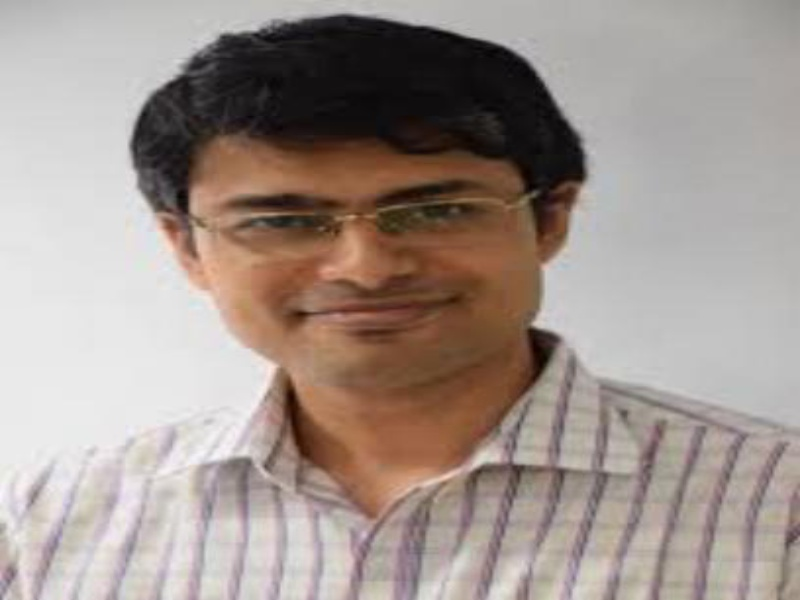TsisyArotava: (136, 11, 605, 432)
